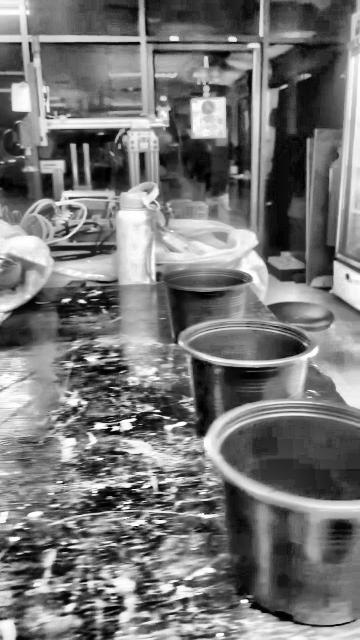pot: (218, 401, 359, 630), (178, 319, 317, 435), (163, 268, 251, 341)
